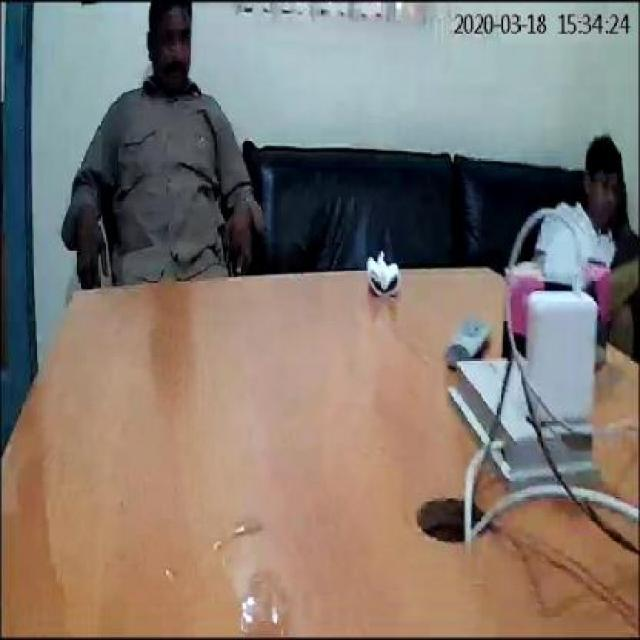spill: (38, 446, 292, 634)
